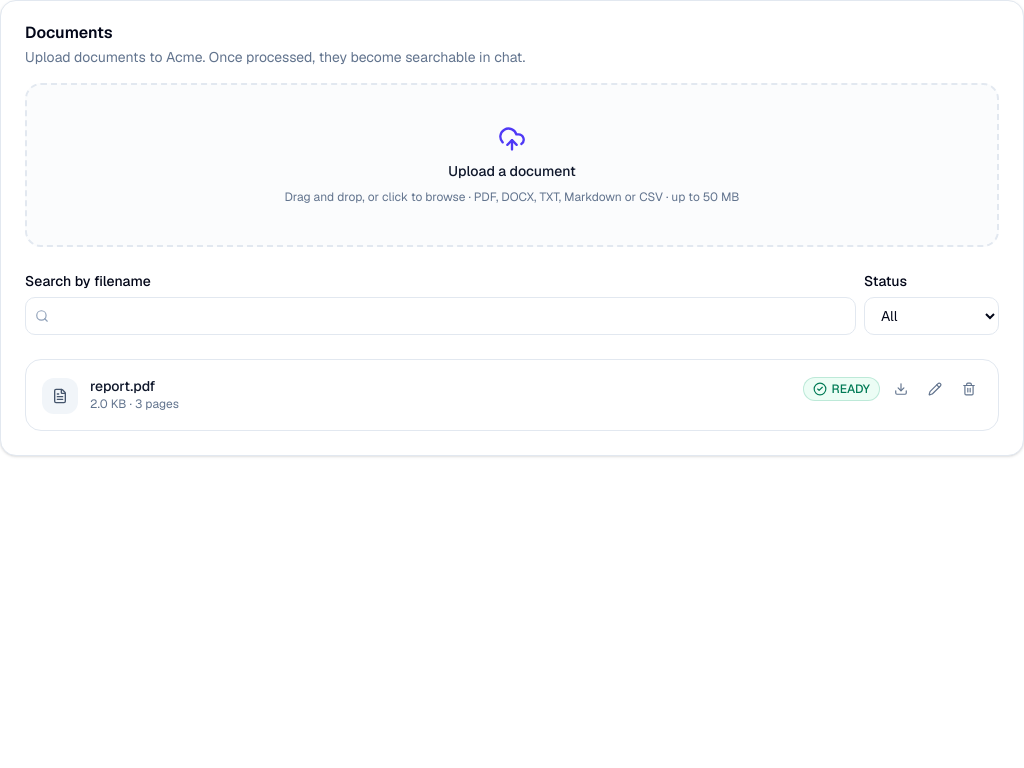
DocumentsPage › deletes a document after confirmation
Check: the text "report.pdf" is shown, box [90,377,155,395]
Click the button named "delete report.pdf".
click(969, 389)  # box [956,376,982,402]
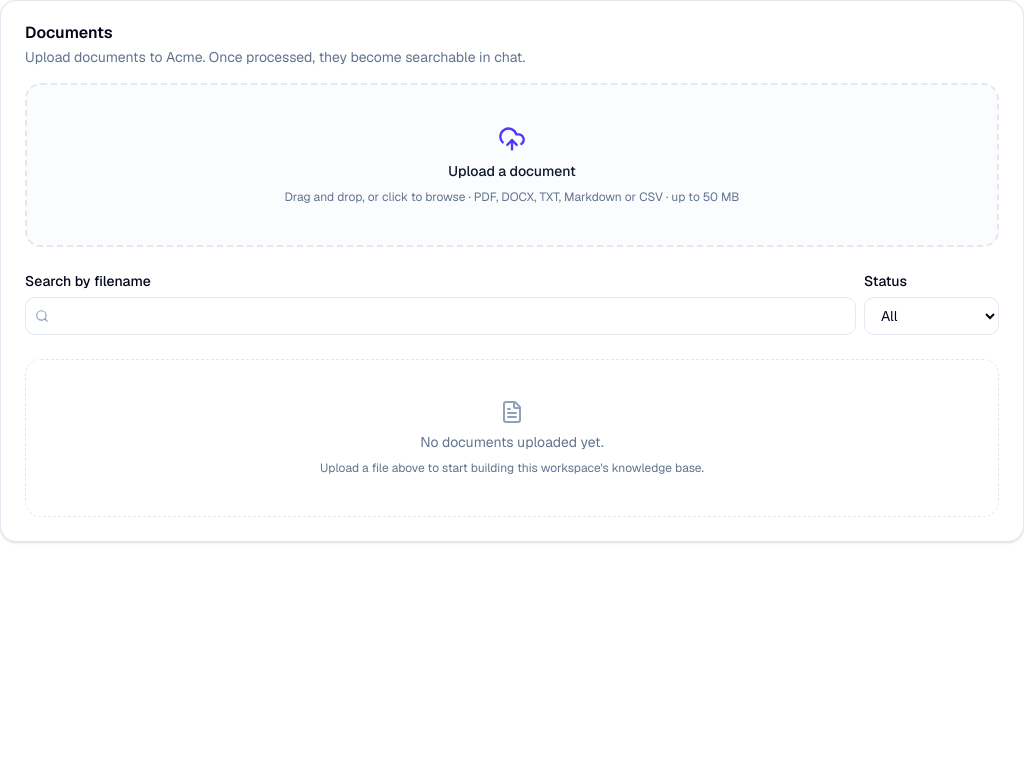
Check: the link "report.pdf" is gone
